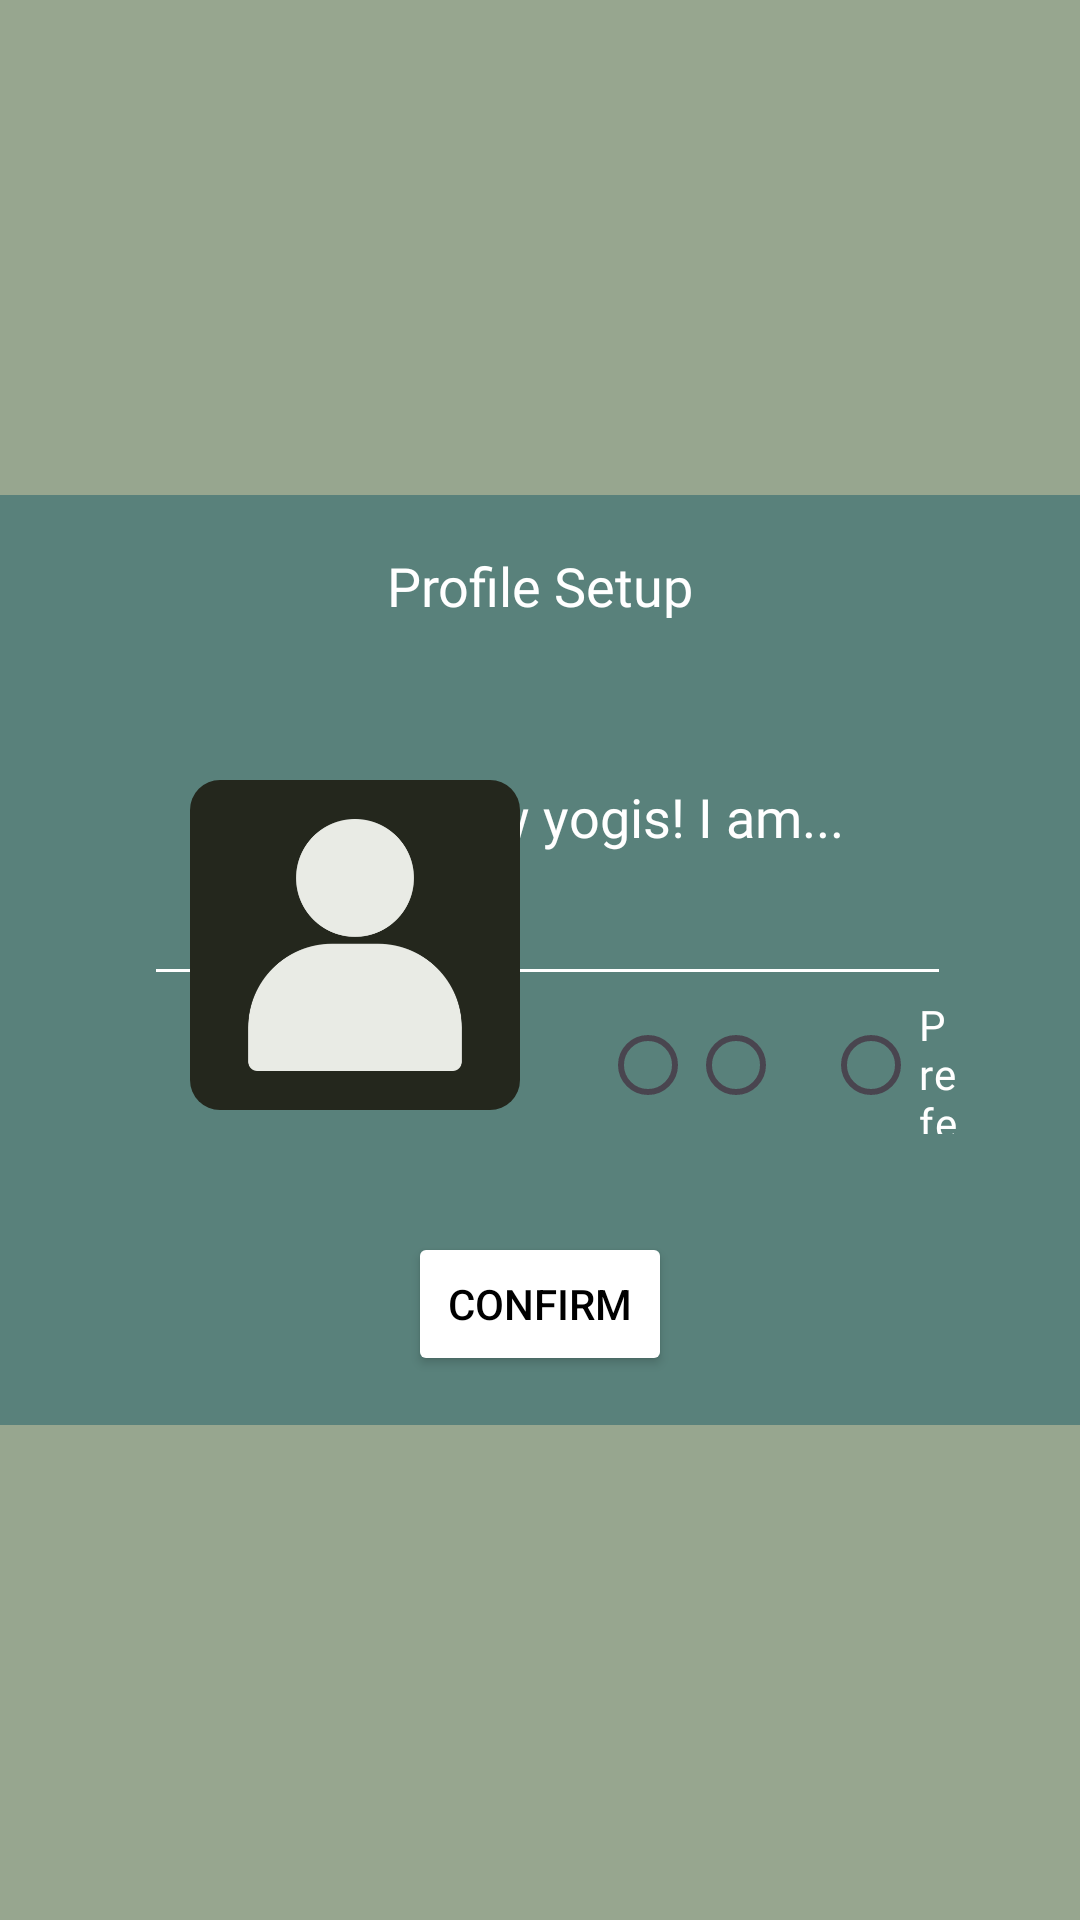

Where icons sit on this 1080×1920 app screen, as bbox=(x1, y1, x2, y2):
profile: bbox=(190, 780, 520, 1110)
